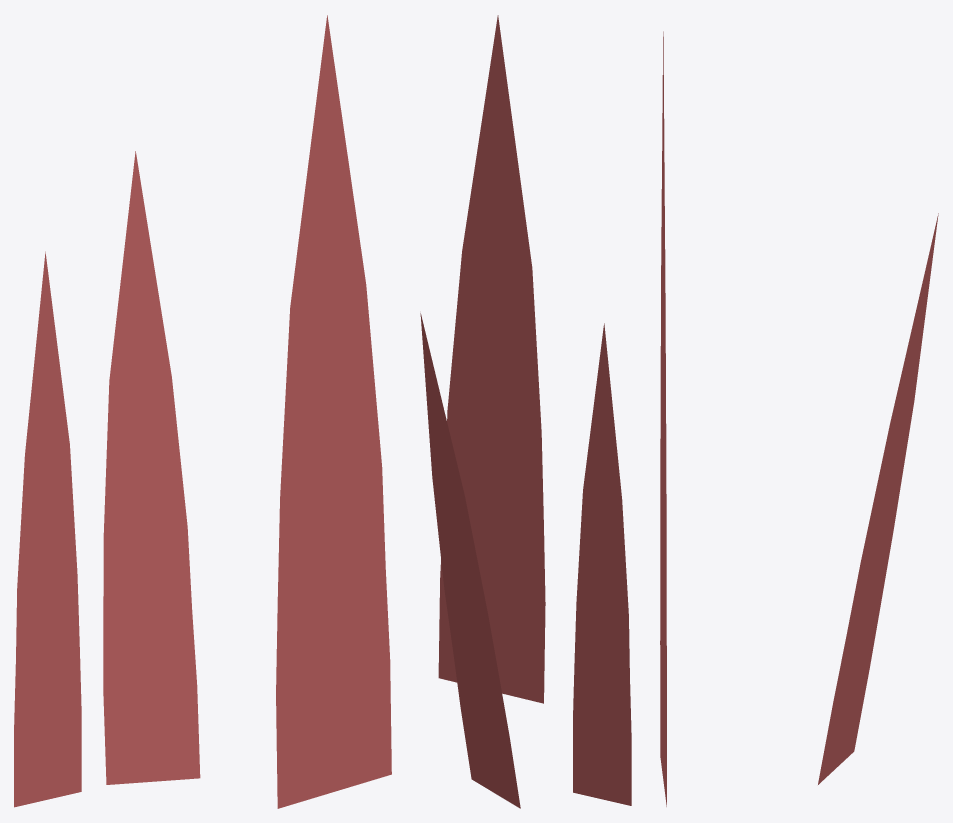
Rendered from Grass Blade (2) 1 DETAILED VERTEX.fbx.
3 views of the same model, side by side, from view 1: azimuth 30°, elevation 25°; view 2: azimuth 150°, elevation 25°; view 3: azimuth 270°, elevation 25° (orthographic). The views are drawn at different scales.
Visible parts, largest first — view 1: GRASS BLADE DETAILED InfiniGRASSblend, GRASS BLADE DETAILED InfiniGRASSblend (2), GRASS BLADE DETAILED InfiniGRASSblend (1); view 2: GRASS BLADE DETAILED InfiniGRASSblend, GRASS BLADE DETAILED InfiniGRASSblend (1), GRASS BLADE DETAILED InfiniGRASSblend (2); view 3: GRASS BLADE DETAILED InfiniGRASSblend (2), GRASS BLADE DETAILED InfiniGRASSblend.
Part boxes in pixels (x1,y1,x2,y2): GRASS BLADE DETAILED InfiniGRASSblend: (276,15,391,808); GRASS BLADE DETAILED InfiniGRASSblend (2): (103,151,200,784); GRASS BLADE DETAILED InfiniGRASSblend (1): (14,251,81,807); GRASS BLADE DETAILED InfiniGRASSblend: (438,15,545,703); GRASS BLADE DETAILED InfiniGRASSblend (1): (573,323,631,805); GRASS BLADE DETAILED InfiniGRASSblend (2): (420,313,520,808); GRASS BLADE DETAILED InfiniGRASSblend (2): (818,213,938,784); GRASS BLADE DETAILED InfiniGRASSblend: (660,31,666,806).
Bounding box in the file's own units: 2.82 × 7.3 × 2.31.
